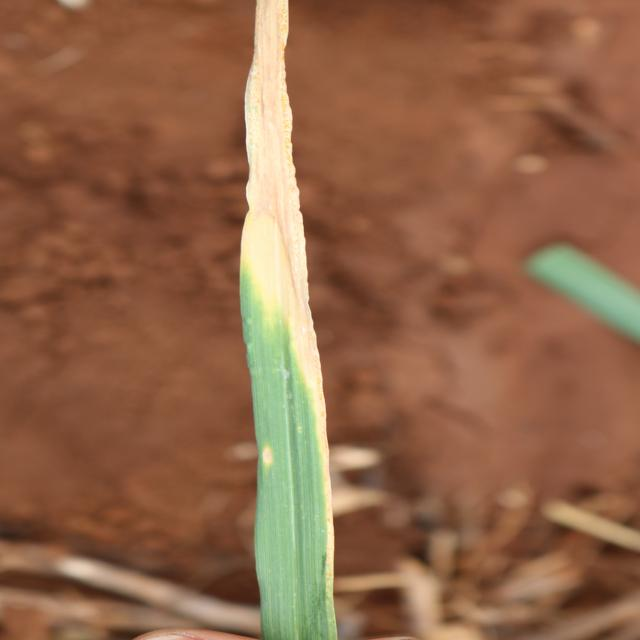Septoria: (237, 0, 338, 639)
